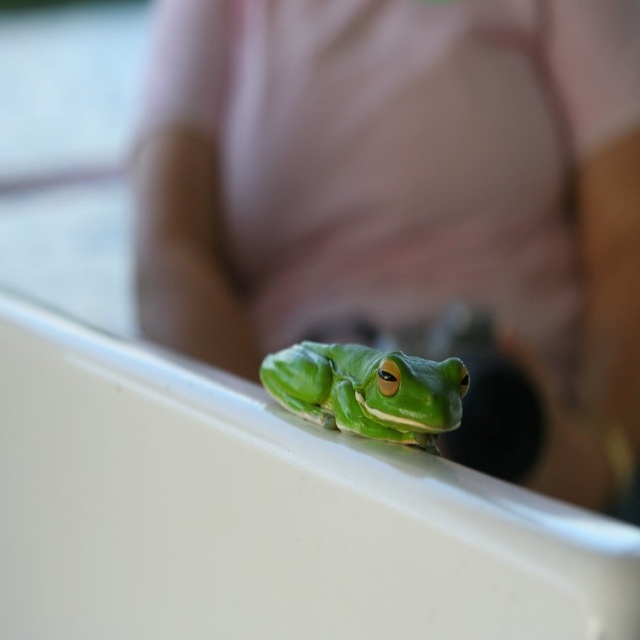Frog: (258, 339, 474, 459)
